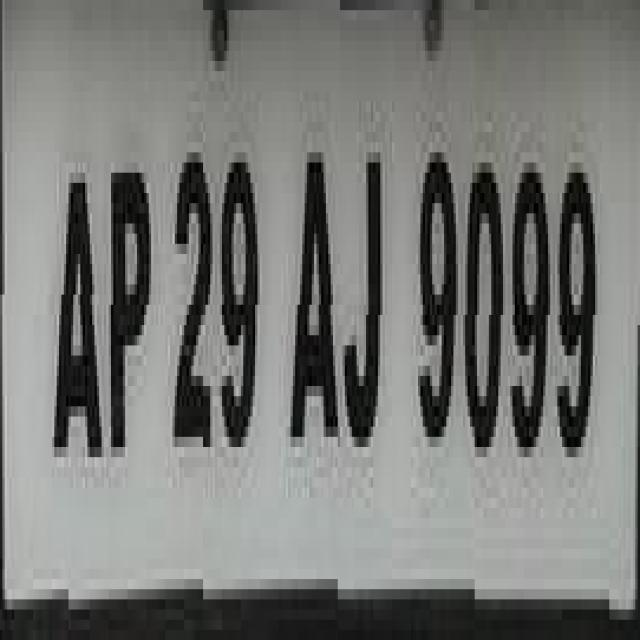license_plate: (26, 0, 640, 620)
